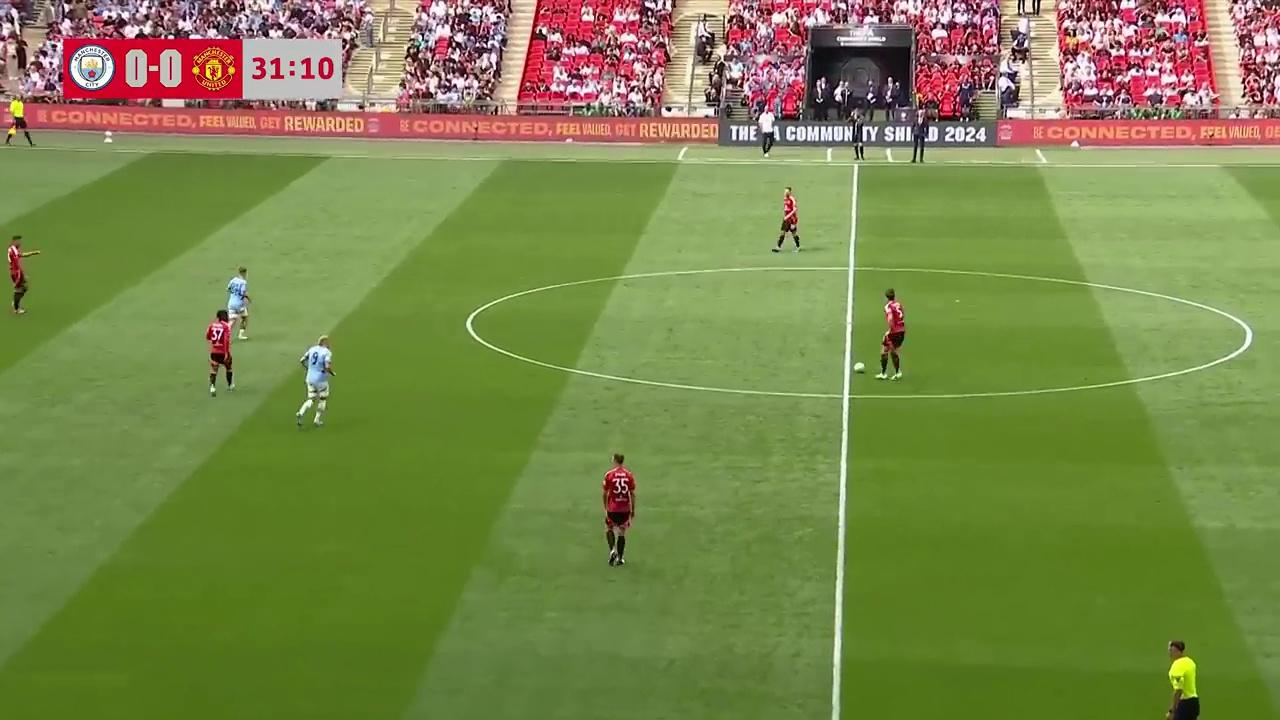ball: (853, 358, 865, 374)
player: (601, 453, 636, 567), (295, 335, 334, 429), (876, 288, 906, 380), (1165, 640, 1200, 718), (7, 235, 41, 315), (205, 308, 234, 397), (226, 266, 252, 339), (772, 188, 801, 253)
referee: (1165, 640, 1200, 719), (2, 101, 34, 147)
